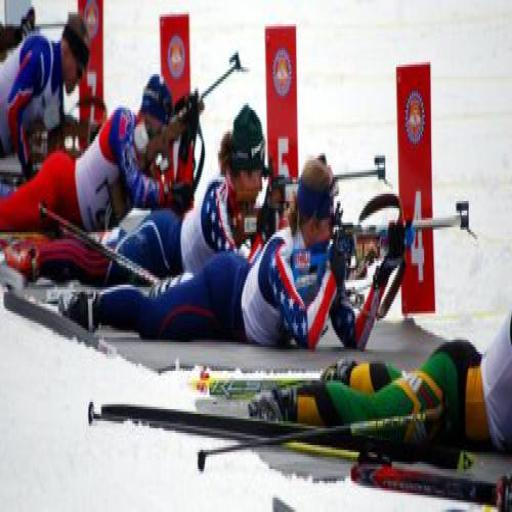shooting: (57, 153, 413, 357), (255, 324, 512, 508), (0, 72, 201, 242), (102, 103, 274, 289), (0, 10, 93, 184)
